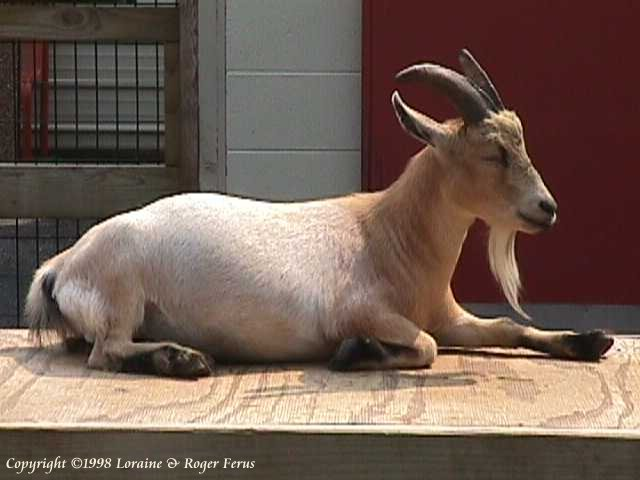goat: (20, 48, 616, 380)
